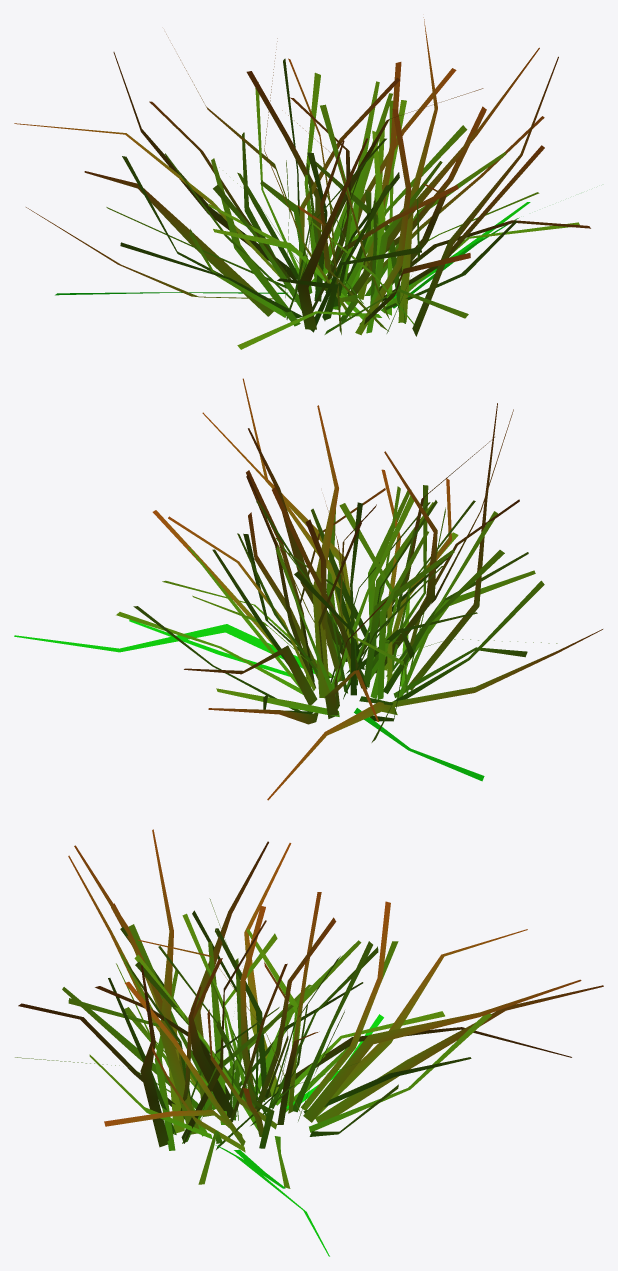
Rendered from Var4_LOD3.fbx.
The picture shows the model from 3 angles, top to bottom: view 1: azimuth 30°, elevation 25°; view 2: azimuth 150°, elevation 25°; view 3: azimuth 270°, elevation 25°; orthographic projection. The views are drawn at different scales.
Parts seen in each view (by area): view 1: _g7ed_Var4_LOD3; view 2: _g7ed_Var4_LOD3; view 3: _g7ed_Var4_LOD3.
Boxes of the visible parts, x1,y1,x2,y2 form: _g7ed_Var4_LOD3: [14, 17, 590, 349]; _g7ed_Var4_LOD3: [14, 378, 602, 800]; _g7ed_Var4_LOD3: [15, 829, 603, 1256].
Size of the model in its own units: 40.59 by 18.14 by 36.07.
